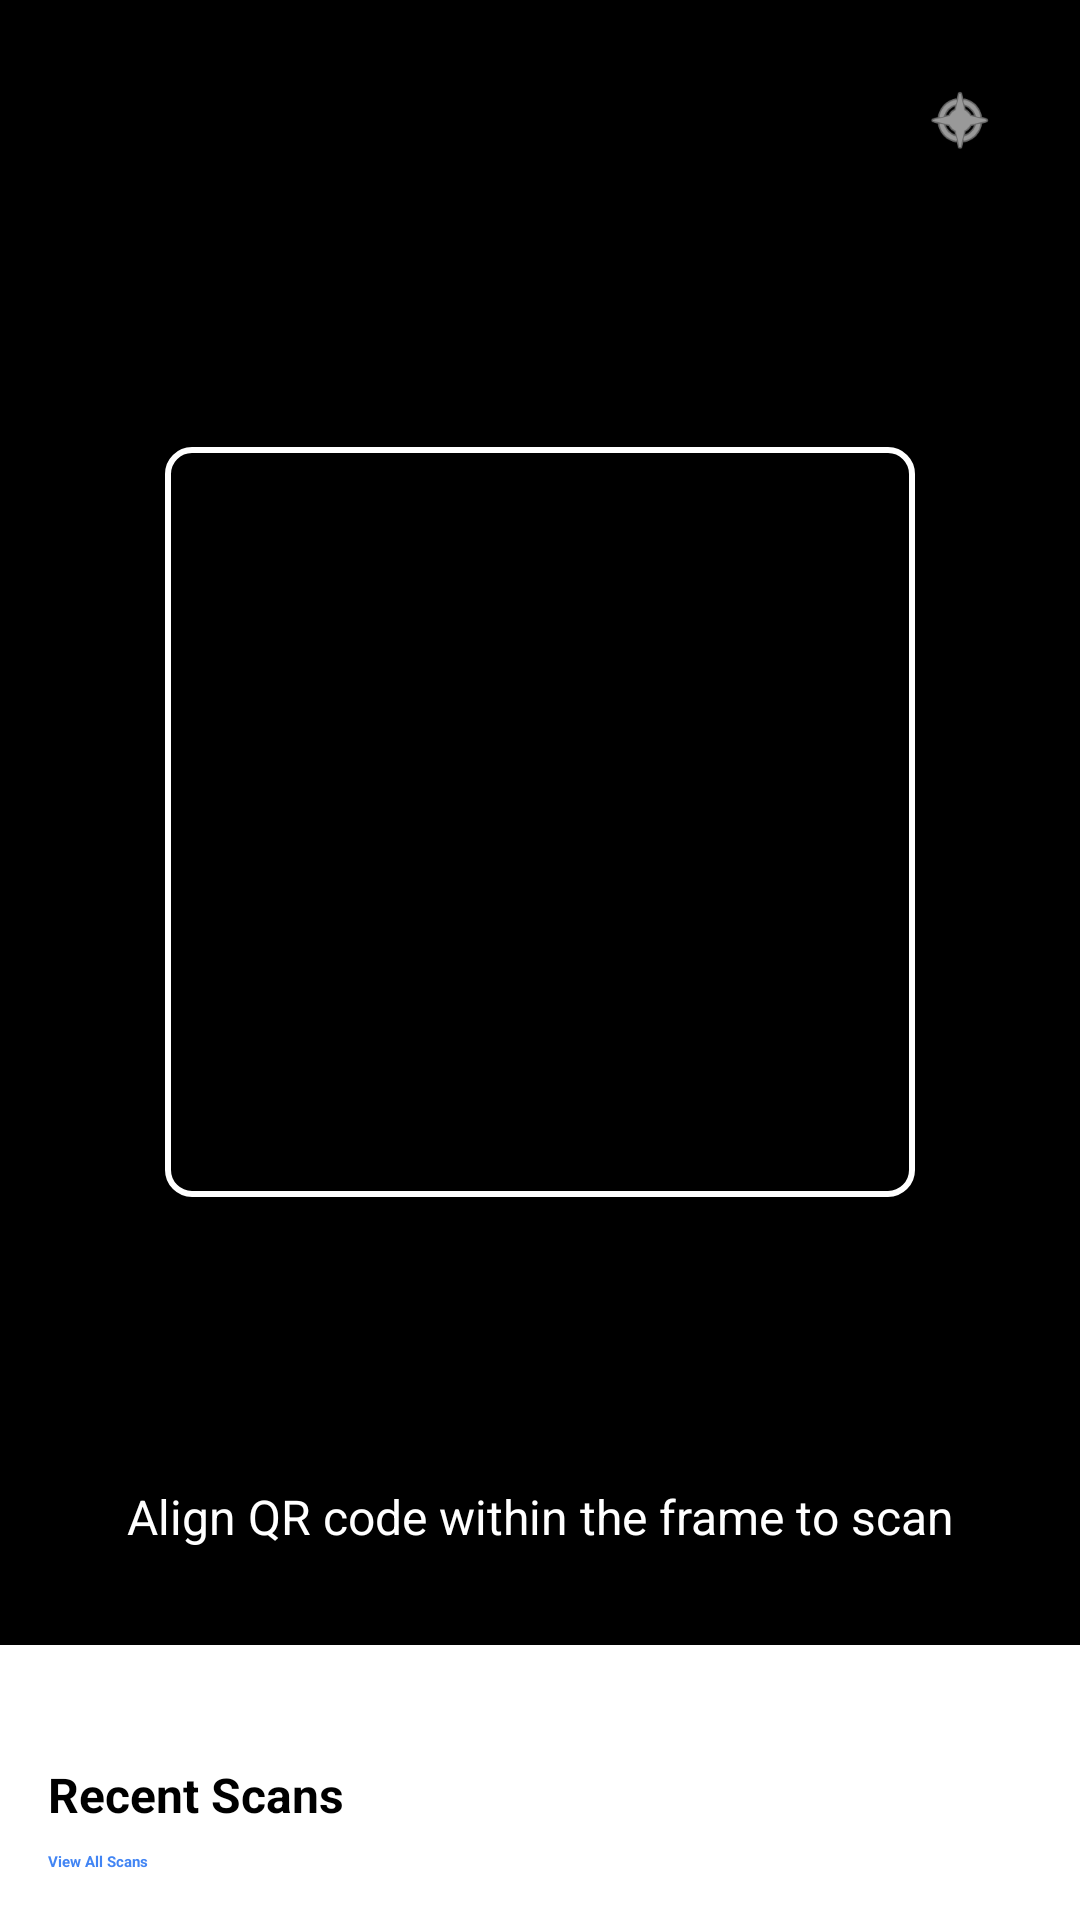

Icon bounding boxes for this 1080px x 1920px phone screenshot, format (x1, y1, x2, y2):
compass: (931, 92, 988, 149)
